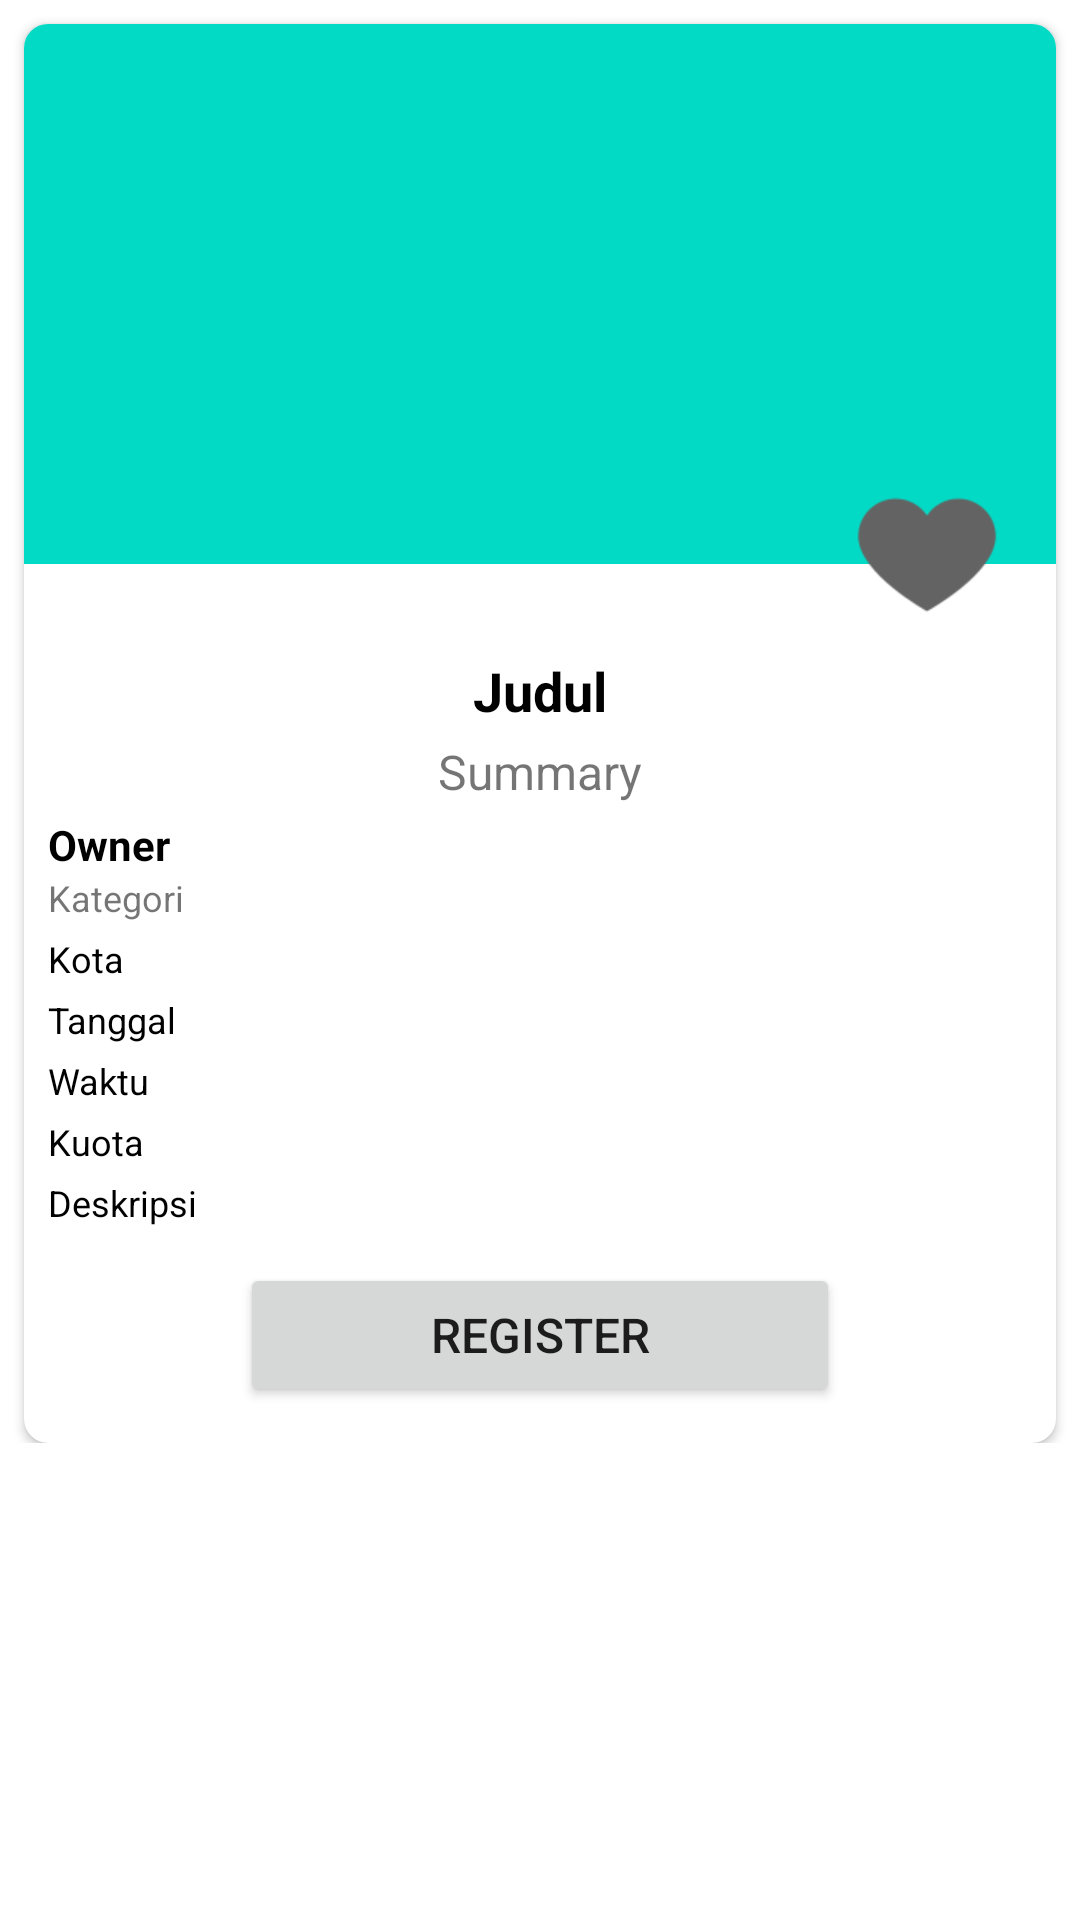

Screen size 1080w x 1920h. Icon name, then its center in pixels as (x,y):
love: (927,555)
